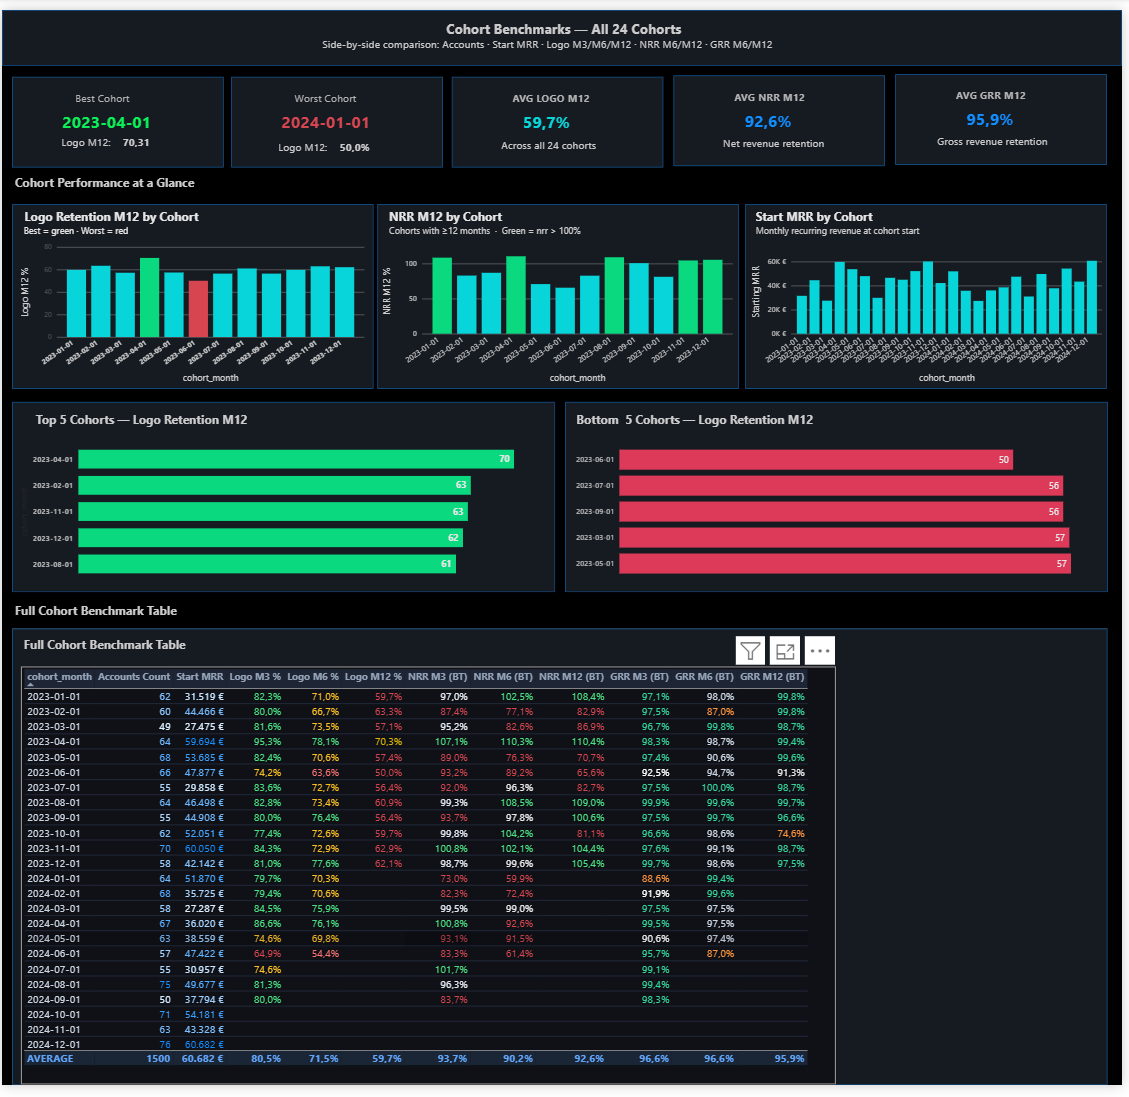

This screenshot's page, from the dashboard's own definition file:
{"tool":"powerbi","page":{"name":"Cohort Benchmarks — All 24 Cohorts","canvas":[2000,1920],"ordinal":0},"visuals":[{"type":"shape","box":[0,0,2000.2,99.2],"z":0,"group":"g6"},{"type":"shape","box":[18,119.9,377.7,161.9],"z":0,"group":"g1"},{"type":"shape","box":[409.6,119.9,377.7,161.9],"z":0,"group":"g2"},{"type":"shape","box":[18,1105,1956.2,815.3],"z":0,"group":"g14"},{"type":"shape","box":[1594.6,115.9,377.7,161.9],"z":1000,"group":"g5"},{"type":"shape","box":[1198.9,117.9,377.7,161.9],"z":1000,"group":"g12"},{"type":"group","id":"g1","title":"Group 2","box":[18,119.9,377.7,161.9],"z":1000},{"type":"shape","box":[803.3,119.9,377.7,161.9],"z":1000,"group":"g13"},{"type":"shape","box":[1005.1,699.4,969.1,340],"z":1000,"group":"g11"},{"type":"group","id":"g2","title":"Group 2","box":[409.6,119.9,377.7,161.9],"z":2000},{"type":"shape","box":[18,699.4,970,340],"z":2000,"group":"g10"},{"type":"group","id":"g3","title":"Group 3","box":[803.3,119.9,377.7,161.9],"z":3000},{"type":"shape","box":[1326.8,347.7,645.4,330],"z":3000,"group":"g9"},{"type":"group","id":"g4","title":"Group 3","box":[1198.9,117.9,377.7,161.9],"z":4000},{"type":"shape","box":[671.4,347.7,645.4,330],"z":4000,"group":"g8"},{"type":"group","id":"g5","title":"Group 4","box":[1594.6,115.9,377.7,161.9],"z":5000},{"type":"shape","box":[18,347.7,645.4,330],"z":5000,"group":"g7"},{"type":"textbox","box":[17.8,287.5,511.2,51.9],"z":6000},{"type":"clusteredColumnChart","fields":{"Category":["saasdbm cohort_mrr_retention.cohort_month"],"Y":["DAX_Measures.NRR M12"]},"box":[675.4,415.6,635,257.8],"z":6000,"group":"g8"},{"type":"group","id":"g6","title":"Group 5","box":[0,0,2000.2,99.2],"z":7000},{"type":"clusteredColumnChart","fields":{"Category":["saasdbm cohort_logo_retention.cohort_month"],"Y":["DAX_Measures.Logo Retention M12"]},"box":[28.3,411.3,623,263.1],"z":7000,"group":"g7"},{"type":"group","id":"g7","title":"Group 6","box":[18,347.7,645.4,330],"z":8000},{"type":"clusteredColumnChart","fields":{"Category":["saasdbm cohort_mrr_retention.cohort_month"],"Y":["Avg(saasdbm cohort_mrr_retention.start_mrr)"]},"box":[1332.8,415.6,635.4,257.8],"z":8000,"group":"g9"},{"type":"group","id":"g8","title":"Group 7","box":[671.4,347.7,645.4,330],"z":9000},{"type":"group","id":"g9","title":"Group 8","box":[1326.8,347.7,645.4,330],"z":10000},{"type":"group","id":"g10","title":"Group 9","box":[18,699.4,970,340],"z":11000},{"type":"card","fields":{"Values":["DAX_Measures.GRR M12"]},"box":[1644.6,175.8,239.8,40],"z":12000,"group":"g5"},{"type":"card","fields":{"Values":["DAX_Measures.NRR M12"]},"box":[1248.9,177.8,239.8,40],"z":12000,"group":"g12"},{"type":"card","fields":{"Values":["DAX_Measures.Best Cohort"]},"box":[68,179.8,239.8,40],"z":12000,"group":"g1"},{"type":"card","fields":{"Values":["DAX_Measures.Worst Cohort"]},"box":[459.6,179.8,239.8,40],"z":12000,"group":"g2"},{"type":"card","fields":{"Values":["DAX_Measures.Logo Retention M12"]},"box":[853.3,179.8,239.8,40],"z":12000,"group":"g13"},{"type":"group","id":"g11","title":"Group 10","box":[1005.1,699.4,969.1,340],"z":12000},{"type":"textbox","box":[1698.5,135.9,153.9,39.9],"z":13000,"group":"g5"},{"type":"textbox","box":[1302.8,137.9,153.9,39.9],"z":13000,"group":"g12"},{"type":"textbox","box":[125.9,139.9,133.9,40],"z":13000,"group":"g1"},{"type":"textbox","box":[517.5,139.9,133.9,40],"z":13000,"group":"g2"},{"type":"textbox","box":[907.2,139.9,153.9,39.9],"z":13000,"group":"g13"},{"type":"textbox","box":[17.1,1052.3,511.6,51.3],"z":13000},{"type":"textbox","box":[1664.8,216.8,229.3,42.8],"z":14000,"group":"g5"},{"type":"textbox","box":[1282.7,220.6,205.3,42.8],"z":14000,"group":"g12"},{"type":"textbox","box":[887.1,222.6,205.3,42.8],"z":14000,"group":"g13"},{"type":"clusteredBarChart","fields":{"Category":["saasdbm cohort_logo_retention.cohort_month"],"Y":["DAX_Measures.Logo Retention M12"]},"box":[28,753.4,945.2,277.8],"z":14000,"group":"g10"},{"type":"tableEx","fields":{"Values":["saasdbm cohort_logo_retention.cohort_month","DAX_Measures.Accounts Count","DAX_Measures.Start MRR","DAX_Measures.Logo M3 %","DAX_Measures.Logo M6 %","DAX_Measures.Logo M12 %","DAX_Measures.NRR M3","DAX_Measures.NRR M6","DAX_Measures.NRR M122","DAX_Measures.GRR M3 (BT)","DAX_Measures.GRR M6 (BT)","DAX_Measures.GRR M12 (BT)"]},"box":[34,1172.9,1456.7,747.3],"z":14000,"group":"g14"},{"type":"group","id":"g12","title":"Group 4","box":[1198.9,117.9,377.7,161.9],"z":14002,"group":"g4"},{"type":"group","id":"g13","title":"Group 4","box":[803.3,119.9,377.7,161.9],"z":14002,"group":"g3"},{"type":"textbox","box":[100.5,219,103.5,40],"z":15000,"group":"g15"},{"type":"textbox","box":[488.5,227.7,106.5,37.7],"z":15000,"group":"g16"},{"type":"clusteredBarChart","fields":{"Category":["saasdbm cohort_logo_retention.cohort_month"],"Y":["DAX_Measures.Logo Retention M12"]},"box":[1015.1,753.4,945.2,277.8],"z":15000,"group":"g11"},{"type":"textbox","box":[34,1113,695.4,50],"z":15000,"group":"g14"},{"type":"group","id":"g14","title":"Group 11","box":[18,1105,1956.2,815.3],"z":15001},{"type":"card","fields":{"Values":["DAX_Measures.Best Cohort Retention"]},"box":[204,219,70.4,40],"z":16000,"group":"g15"},{"type":"card","fields":{"Values":["DAX_Measures.Worst Cohort Retention"]},"box":[595,227.7,72.5,37.6],"z":16000,"group":"g16"},{"type":"textbox","box":[50,711.4,515.5,42],"z":16000,"group":"g10"},{"type":"group","id":"g15","title":"Group 1","box":[100.5,219,173.8,40],"z":16001,"group":"g1"},{"type":"group","id":"g16","title":"Group 1","box":[488.5,227.7,179,37.6],"z":16001,"group":"g2"},{"type":"textbox","box":[1015.1,711.4,515.5,42],"z":17000,"group":"g11"},{"type":"textbox","box":[30,349.7,511.5,59.9],"z":18000,"group":"g7"},{"type":"textbox","box":[687.4,349.7,511.5,59.9],"z":19000,"group":"g8"},{"type":"textbox","box":[1340.8,349.7,511.5,59.9],"z":20000,"group":"g9"},{"type":"textbox","box":[568.1,10.3,872.6,77],"z":22000,"group":"g6"}]}

Visuals, with their boxes in screenshot pixels (x1, y1, x2, y2), scaled from the page's 2000x1920 canvas onto the 1129x1097 screenshot:
shape: 0:0:1128:57
shape: 10:69:223:161
shape: 231:69:444:161
shape: 10:631:1114:1096
shape: 900:66:1113:159
shape: 677:67:890:160
"Group 2" group: 10:69:223:161
shape: 453:69:667:161
shape: 567:400:1114:594
"Group 2" group: 231:69:444:161
shape: 10:400:558:594
"Group 3" group: 453:69:667:161
shape: 749:199:1113:387
"Group 3" group: 677:67:890:160
shape: 379:199:743:387
"Group 4" group: 900:66:1113:159
shape: 10:199:374:387
textbox: 10:164:299:194
clusteredColumnChart - saasdbm cohort_mrr_retention.cohort_month x DAX_Measures.NRR M12: 381:237:740:385
"Group 5" group: 0:0:1128:57
clusteredColumnChart - saasdbm cohort_logo_retention.cohort_month x DAX_Measures.Logo Retention M12: 16:235:368:385
"Group 6" group: 10:199:374:387
clusteredColumnChart - saasdbm cohort_mrr_retention.cohort_month x Avg(saasdbm cohort_mrr_retention.start_mrr): 752:237:1111:385
"Group 7" group: 379:199:743:387
"Group 8" group: 749:199:1113:387
"Group 9" group: 10:400:558:594
card - DAX_Measures.GRR M12: 928:100:1064:123
card - DAX_Measures.NRR M12: 705:102:840:124
card - DAX_Measures.Best Cohort: 38:103:174:126
card - DAX_Measures.Worst Cohort: 259:103:395:126
card - DAX_Measures.Logo Retention M12: 482:103:617:126
"Group 10" group: 567:400:1114:594
textbox: 959:78:1046:100
textbox: 735:79:822:102
textbox: 71:80:147:103
textbox: 292:80:368:103
textbox: 512:80:599:103
textbox: 10:601:298:631
textbox: 940:124:1069:148
textbox: 724:126:840:150
textbox: 501:127:617:152
clusteredBarChart - saasdbm cohort_logo_retention.cohort_month x DAX_Measures.Logo Retention M12: 16:430:549:589
tableEx - saasdbm cohort_logo_retention.cohort_month x DAX_Measures.Accounts Count: 19:670:842:1096
"Group 4" group: 677:67:890:160
"Group 4" group: 453:69:667:161
textbox: 57:125:115:148
textbox: 276:130:336:152
clusteredBarChart - saasdbm cohort_logo_retention.cohort_month x DAX_Measures.Logo Retention M12: 573:430:1107:589
textbox: 19:636:412:664
"Group 11" group: 10:631:1114:1096
card - DAX_Measures.Best Cohort Retention: 115:125:155:148
card - DAX_Measures.Worst Cohort Retention: 336:130:377:152
textbox: 28:406:319:430
"Group 1" group: 57:125:155:148
"Group 1" group: 276:130:377:152
textbox: 573:406:864:430
textbox: 17:200:306:234
textbox: 388:200:677:234
textbox: 757:200:1046:234
textbox: 321:6:813:50
